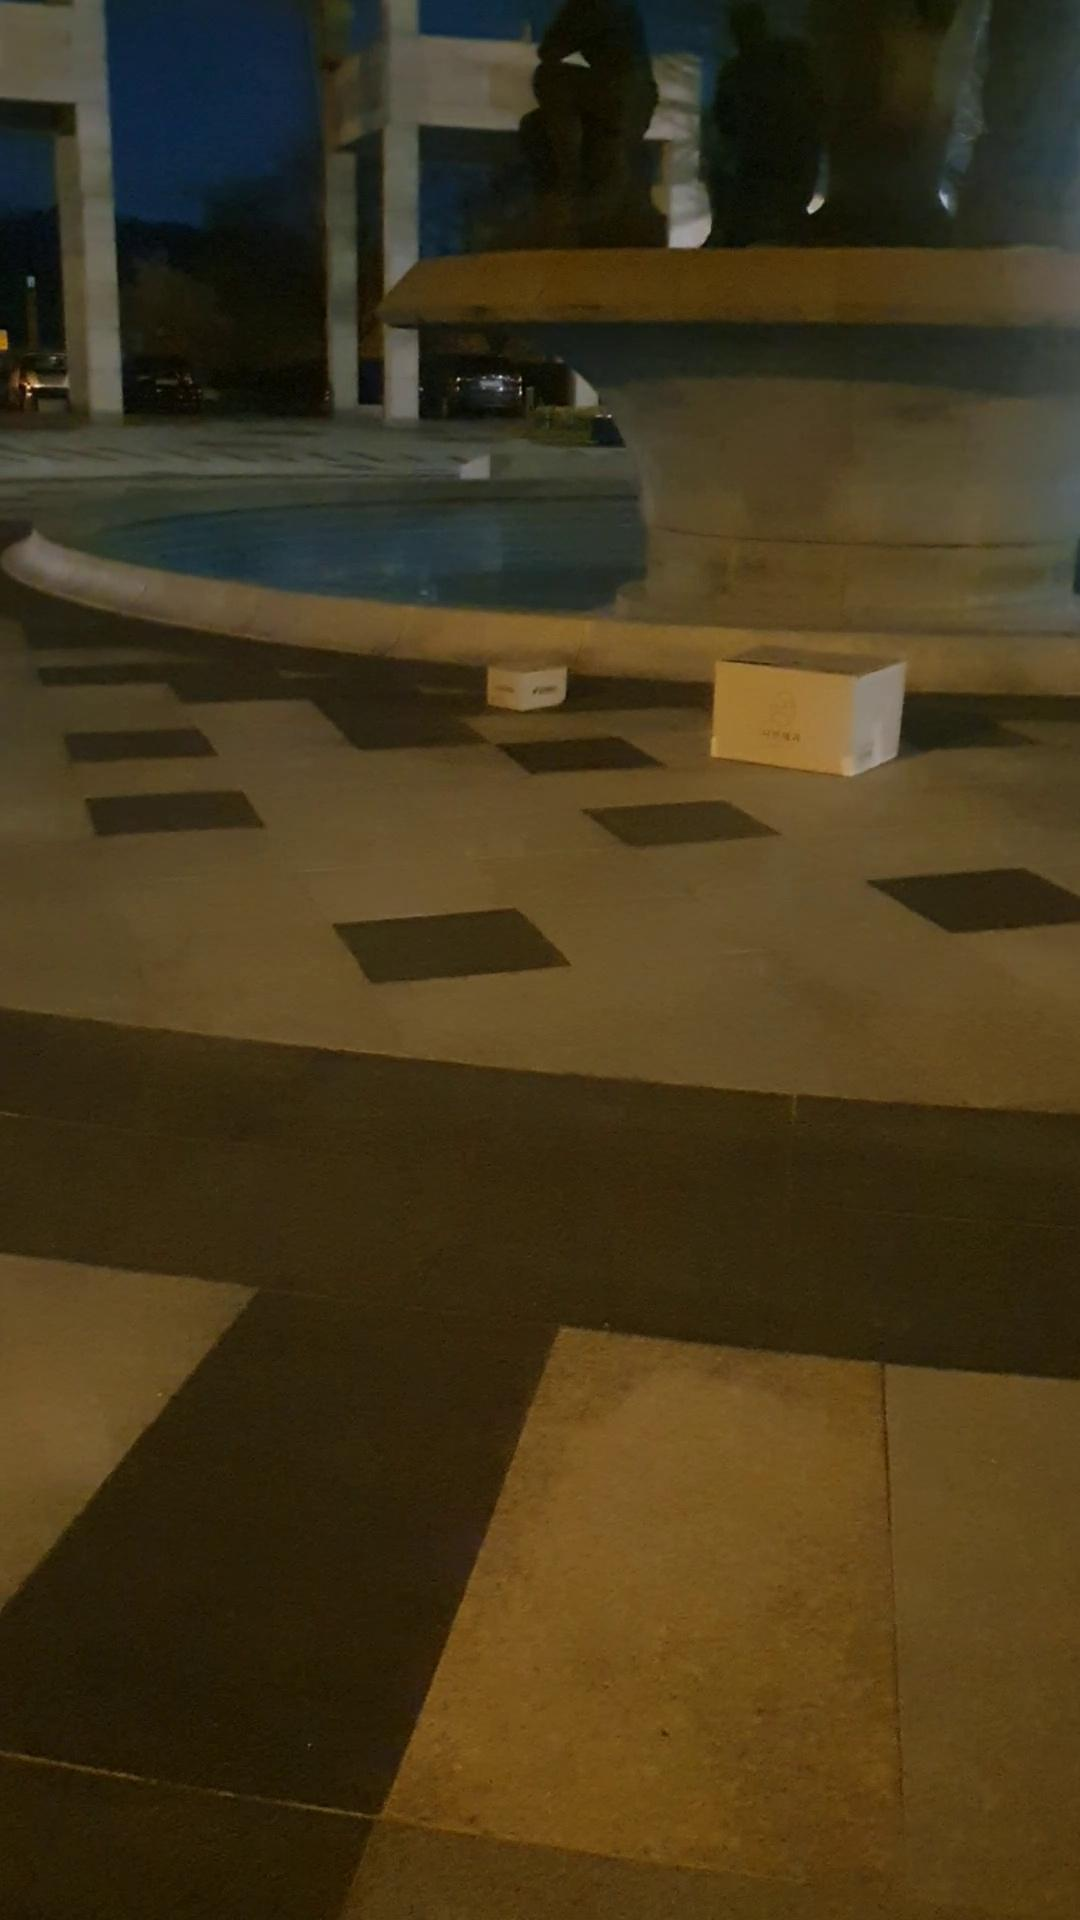Box: (702, 638, 922, 795), (487, 647, 570, 720)
